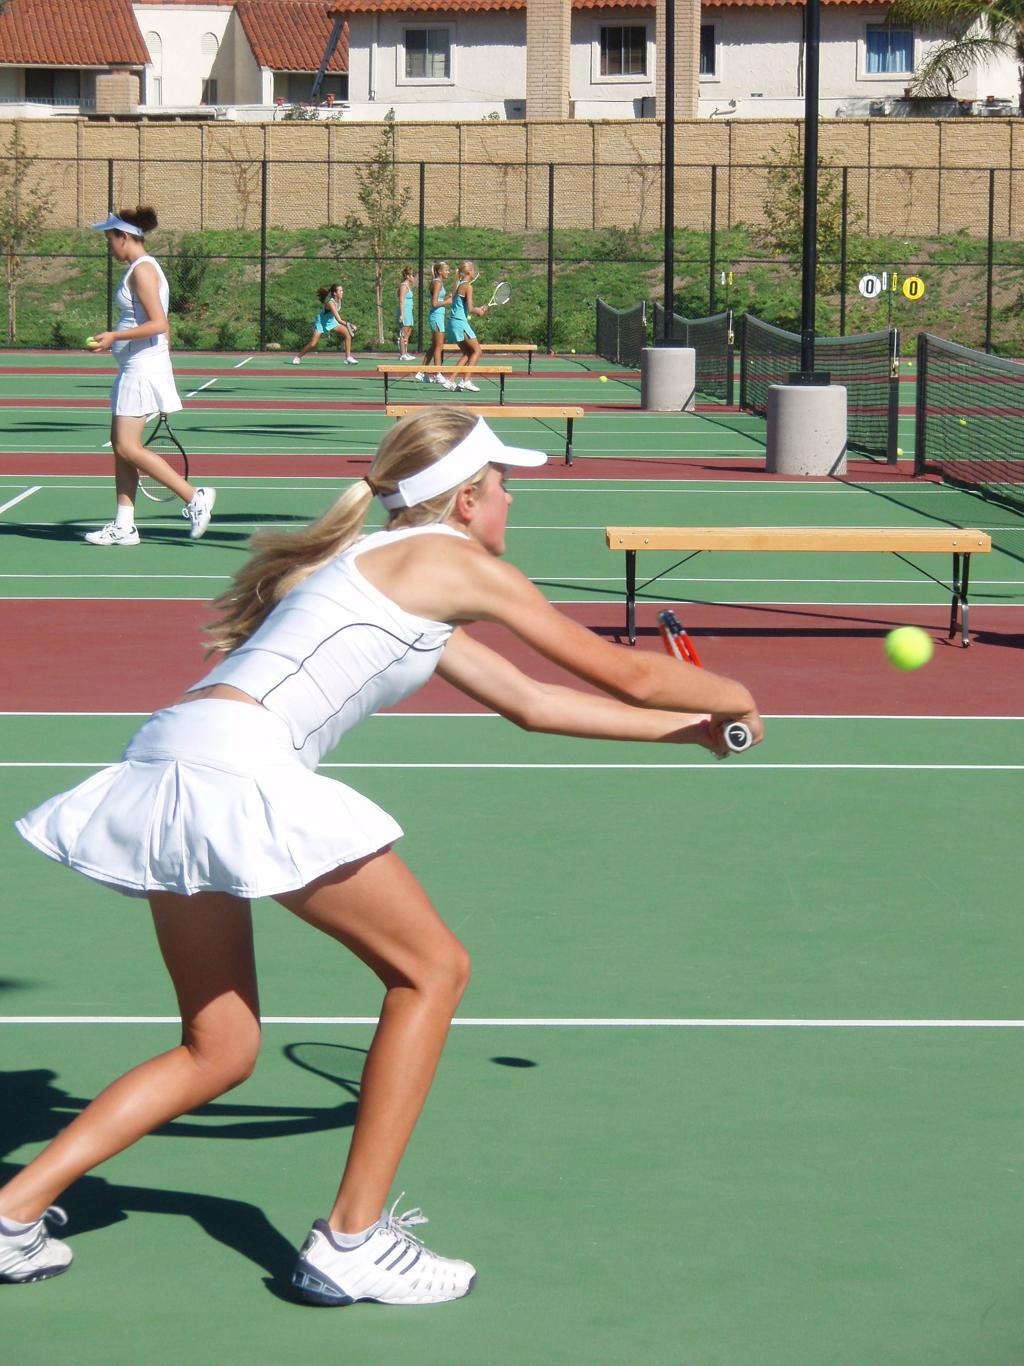face: (475, 460, 511, 553), (104, 230, 124, 260), (441, 265, 449, 278), (336, 286, 343, 298), (469, 266, 475, 278), (409, 273, 414, 281)
